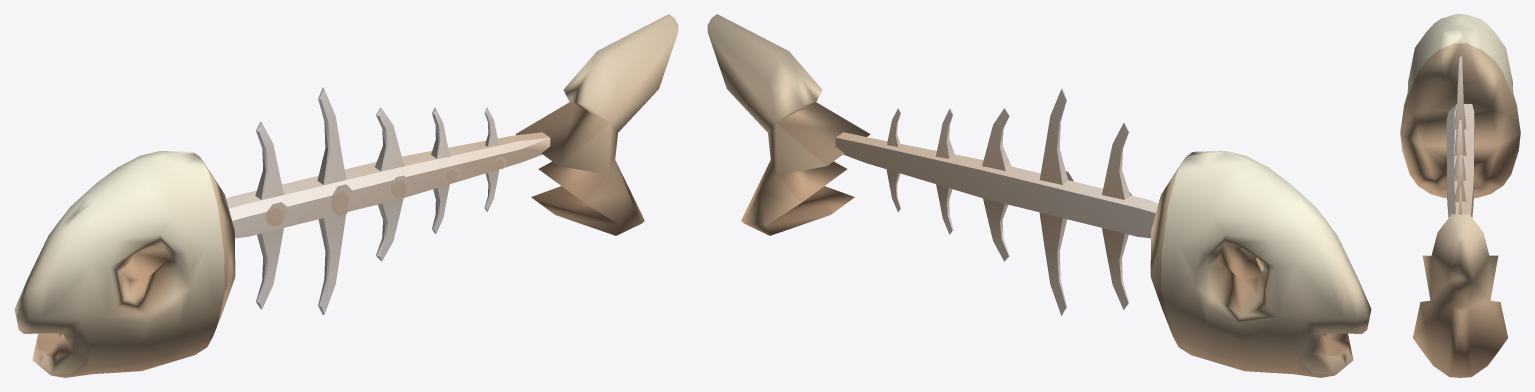
Rendered from fishdead.glb.
The picture shows the model from 3 angles, left to right: view 1: azimuth 30°, elevation 25°; view 2: azimuth 150°, elevation 25°; view 3: azimuth 270°, elevation 25°; orthographic projection. The views are drawn at different scales.
Visible parts, largest first — view 1: fishdead; view 2: fishdead; view 3: fishdead.
Boxes of the visible parts, box(x1,y1,x2,y2) form: fishdead: box(14, 14, 678, 377); fishdead: box(707, 14, 1371, 377); fishdead: box(1400, 14, 1520, 377).
Size of the model in its own units: 1.05 by 0.3486 by 0.1915.
Materials: 1 (1 with a texture image).
